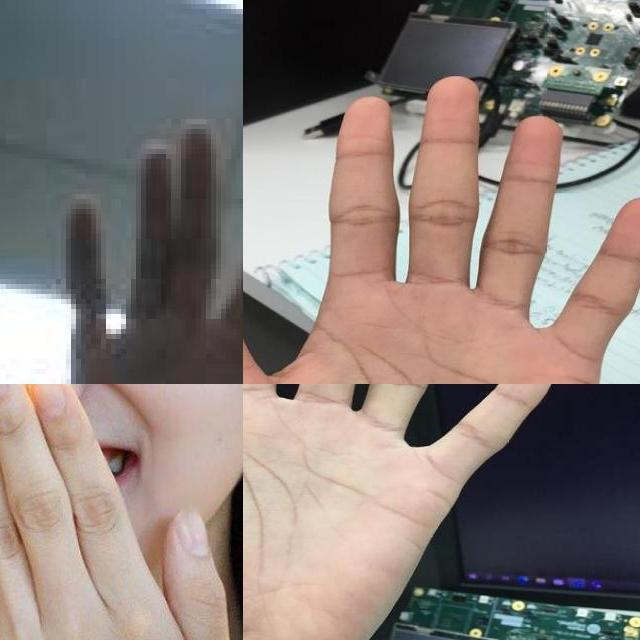no-gloves: (243, 72, 640, 384), (243, 384, 568, 640), (0, 384, 242, 640), (61, 119, 243, 384)
